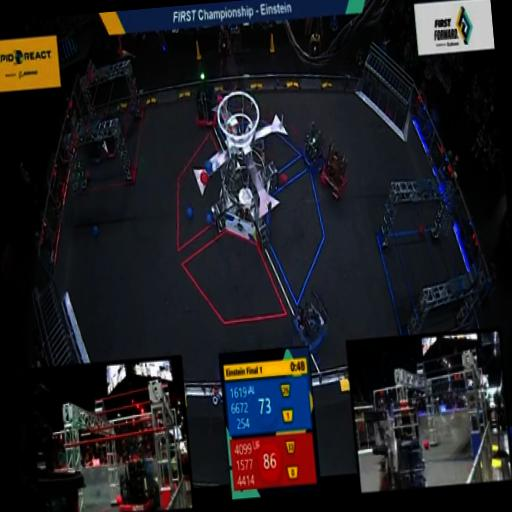robot: (282, 282, 340, 360), (184, 65, 224, 135), (293, 114, 331, 172), (316, 138, 350, 198)
